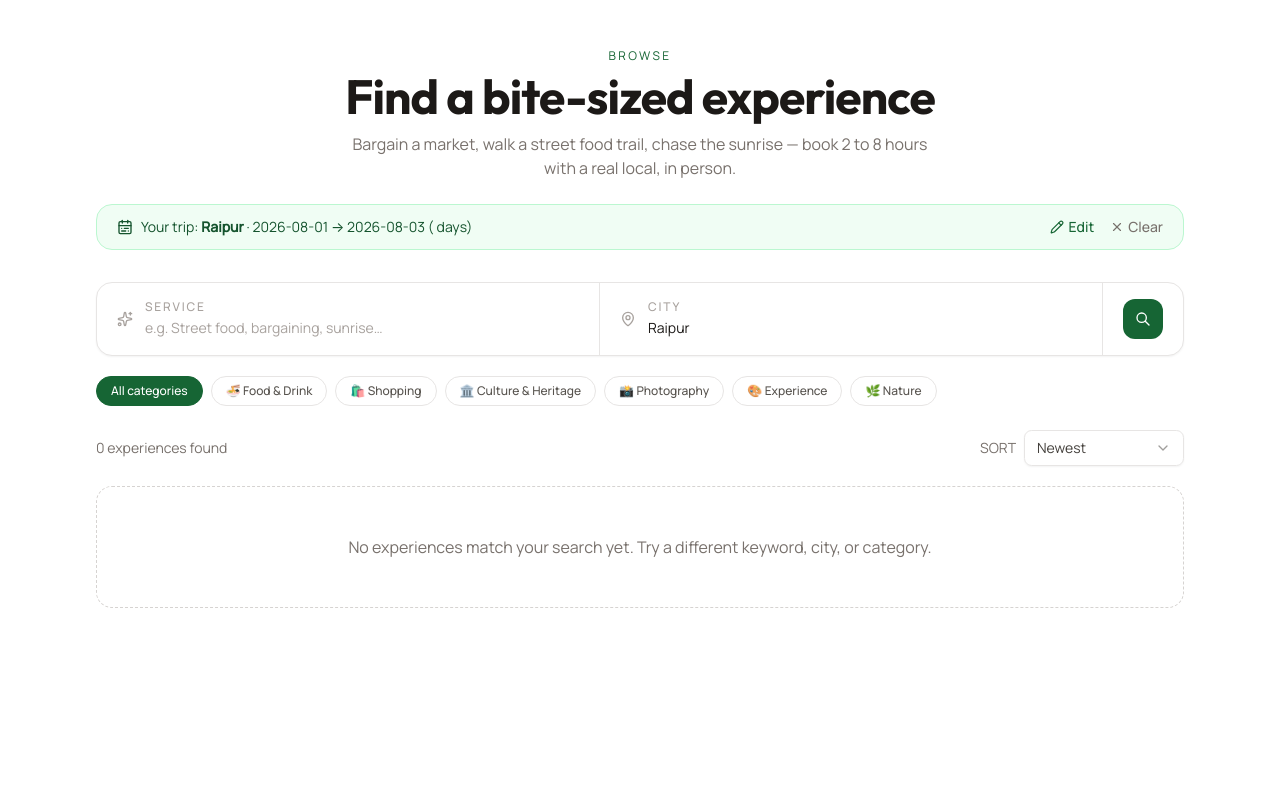
Test: Browse trip banner — clear draft flow › clicking Clear opens a confirmation dialog without clearing yet
Expected: the element with test id "trip-context-banner" is shown, [96, 204, 1184, 250]
Click the button with test id "clear-trip-link" at {"x": 1137, "y": 227}, box [1110, 217, 1163, 237]
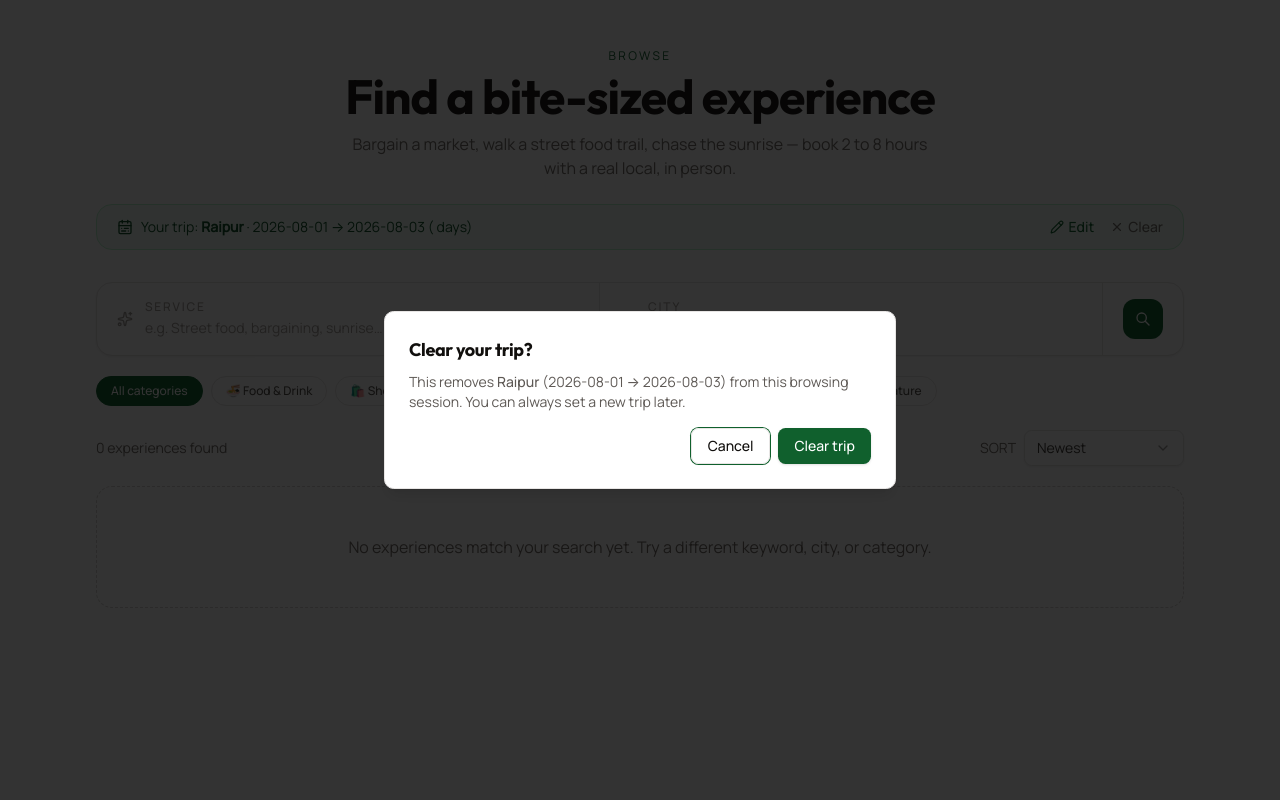
Result: the heading "Clear your trip?" is shown at [409, 338, 532, 361]
